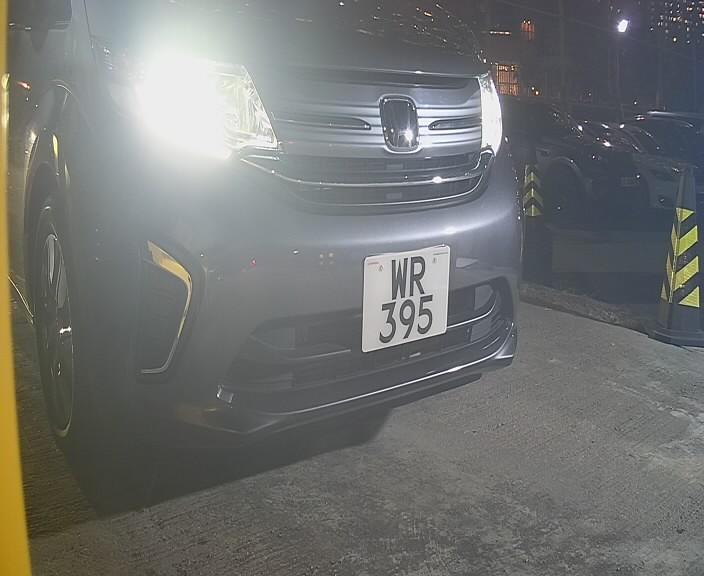privatecar: (38, 3, 547, 456)
